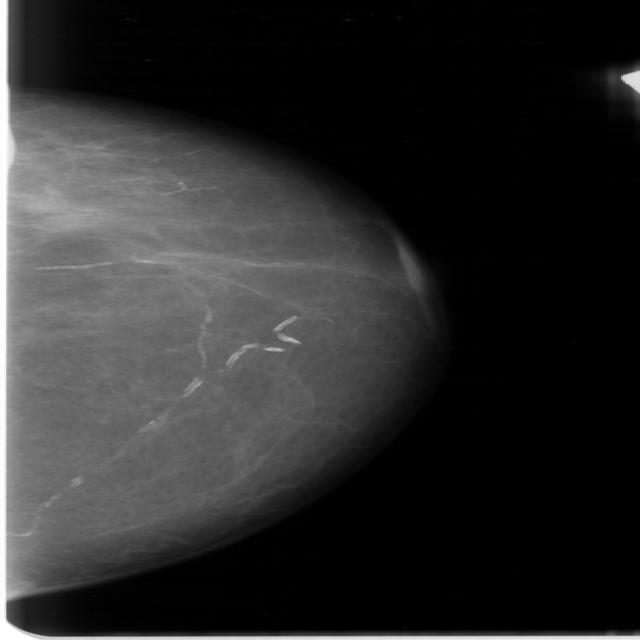tumour: (17, 191, 95, 231)
